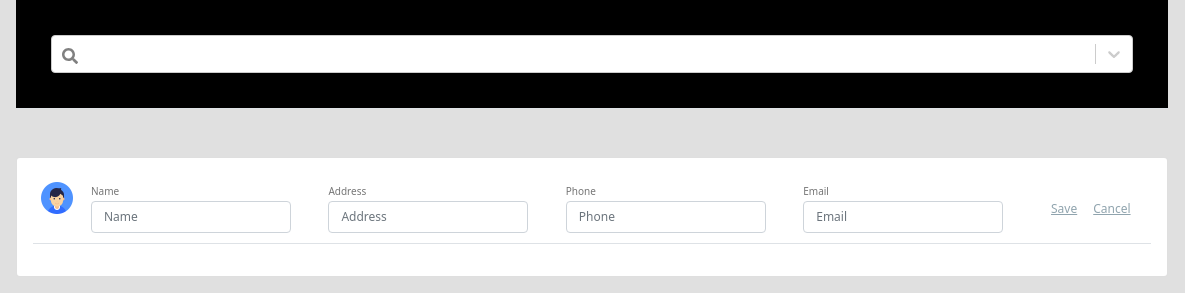
Test: Contact Home › Validating field empty
Click the text with id "button-submit".
click(1064, 209)  # box [1051,200,1077,217]
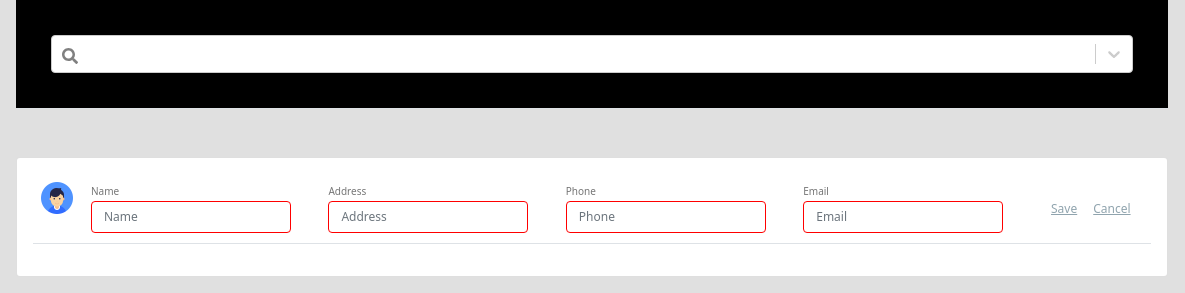
Result: the field with class "error-class" showing "Name" is shown at [91,201,291,233]
